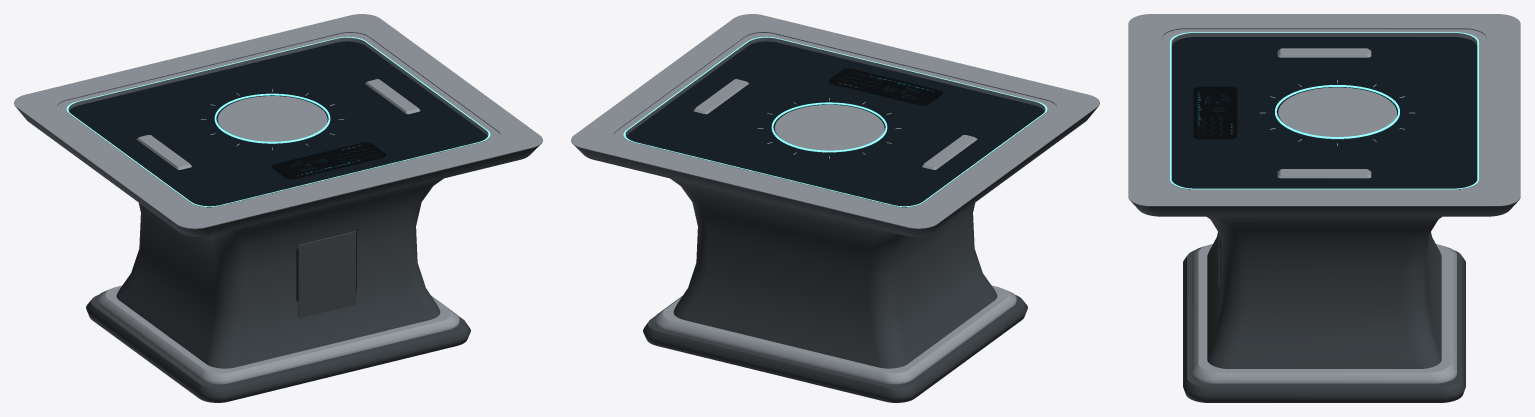
The model's file is ZH_ENV_SCAN_TABLE.fbx.
3 views of the same model, side by side, from view 1: azimuth 30°, elevation 25°; view 2: azimuth 150°, elevation 25°; view 3: azimuth 270°, elevation 25° (orthographic). The views are drawn at different scales.
Parts seen in each view (by area): view 1: Continuous scan | single formed pedestal.001, V9 Scan | recessed optical bed.001, V9 Scan | wide ceramic rim.001, Continuous scan | low single foot.001, V9 Scan | undercut optical chassis.001, Continuous scan | foot metal lip.001, Precision scan | flush access cover.001, V9 Scan | sample seat.001, V9 Scan | inner machined wall.001, V9 Scan | inset touch glass.001, V9 Scan | optical light seal.001, V9 Scan | flush optical module.002 (+2 smaller); view 2: Continuous scan | single formed pedestal.001, V9 Scan | recessed optical bed.001, V9 Scan | wide ceramic rim.001, Continuous scan | low single foot.001, V9 Scan | undercut optical chassis.001, Continuous scan | foot metal lip.001, V9 Scan | sample seat.001, V9 Scan | inner machined wall.001, V9 Scan | inset touch glass.001, V9 Scan | optical light seal.001, V9 Scan | flush optical module.002, V9 Scan | flush optical module.003 (+1 smaller); view 3: V9 Scan | recessed optical bed.001, Continuous scan | single formed pedestal.001, V9 Scan | wide ceramic rim.001, Continuous scan | low single foot.001, Continuous scan | foot metal lip.001, V9 Scan | undercut optical chassis.001, V9 Scan | sample seat.001, V9 Scan | inner machined wall.001, V9 Scan | inset touch glass.001, V9 Scan | optical light seal.001, V9 Scan | flush optical module.002, V9 Scan | flush optical module.003 (+1 smaller).
Boxes of the visible parts, <box> form: Continuous scan | single formed pedestal.001: <box>67,40,508,368</box>; V9 Scan | recessed optical bed.001: <box>69,41,487,207</box>; V9 Scan | wide ceramic rim.001: <box>14,14,542,228</box>; Continuous scan | low single foot.001: <box>86,295,470,402</box>; V9 Scan | undercut optical chassis.001: <box>14,32,542,236</box>; Continuous scan | foot metal lip.001: <box>97,285,459,384</box>; Precision scan | flush access cover.001: <box>298,231,356,317</box>; V9 Scan | sample seat.001: <box>217,96,327,143</box>; V9 Scan | inner machined wall.001: <box>56,33,500,210</box>; V9 Scan | inset touch glass.001: <box>271,142,386,179</box>; V9 Scan | optical light seal.001: <box>66,36,490,206</box>; V9 Scan | flush optical module.002: <box>136,135,191,169</box>; Continuous scan | single formed pedestal.001: <box>605,40,1046,368</box>; V9 Scan | recessed optical bed.001: <box>626,41,1044,207</box>; V9 Scan | wide ceramic rim.001: <box>571,14,1099,228</box>; Continuous scan | low single foot.001: <box>643,295,1027,402</box>; V9 Scan | undercut optical chassis.001: <box>571,32,1099,236</box>; Continuous scan | foot metal lip.001: <box>654,285,1016,384</box>; V9 Scan | sample seat.001: <box>774,104,884,152</box>; V9 Scan | inner machined wall.001: <box>613,33,1057,210</box>; V9 Scan | inset touch glass.001: <box>828,68,943,105</box>; V9 Scan | optical light seal.001: <box>623,36,1047,206</box>; V9 Scan | flush optical module.002: <box>922,135,977,169</box>; V9 Scan | flush optical module.003: <box>693,79,748,114</box>; V9 Scan | recessed optical bed.001: <box>1171,37,1477,189</box>; Continuous scan | single formed pedestal.001: <box>1159,39,1489,368</box>; V9 Scan | wide ceramic rim.001: <box>1128,14,1520,205</box>; Continuous scan | low single foot.001: <box>1183,250,1465,402</box>; Continuous scan | foot metal lip.001: <box>1192,244,1456,383</box>; V9 Scan | undercut optical chassis.001: <box>1128,28,1520,216</box>; V9 Scan | sample seat.001: <box>1277,87,1397,139</box>; V9 Scan | inner machined wall.001: <box>1162,29,1486,191</box>; V9 Scan | inset touch glass.001: <box>1193,86,1237,139</box>; V9 Scan | optical light seal.001: <box>1170,32,1478,189</box>; V9 Scan | flush optical module.002: <box>1277,48,1371,57</box>; V9 Scan | flush optical module.003: <box>1277,169,1371,178</box>.
Bounding box in the file's own units: 1.75 × 0.956 × 1.51.
6 materials, 1 textured.
